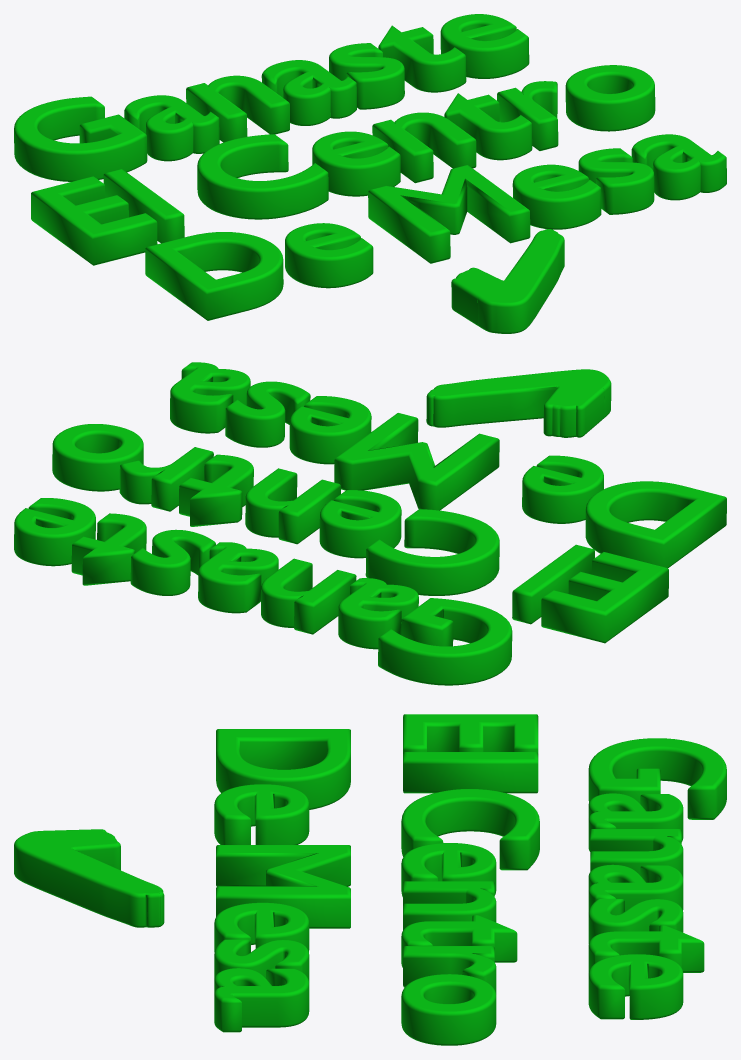
The model's file is centro.glb.
3 renders of one model, top to bottom at view 1: azimuth 30°, elevation 25°; view 2: azimuth 150°, elevation 25°; view 3: azimuth 270°, elevation 25°, orthographic. The views are drawn at different scales.
Visible parts, largest first — view 1: GraciasPorParticipar; view 2: GraciasPorParticipar; view 3: GraciasPorParticipar.
Boxes of the visible parts, left/top/right/bottom form: GraciasPorParticipar: left=14, top=14, right=726, bottom=333; GraciasPorParticipar: left=14, top=362, right=726, bottom=685; GraciasPorParticipar: left=14, top=714, right=726, bottom=1045.
Size of the model in its own units: 3.9 by 0.2458 by 3.81.
